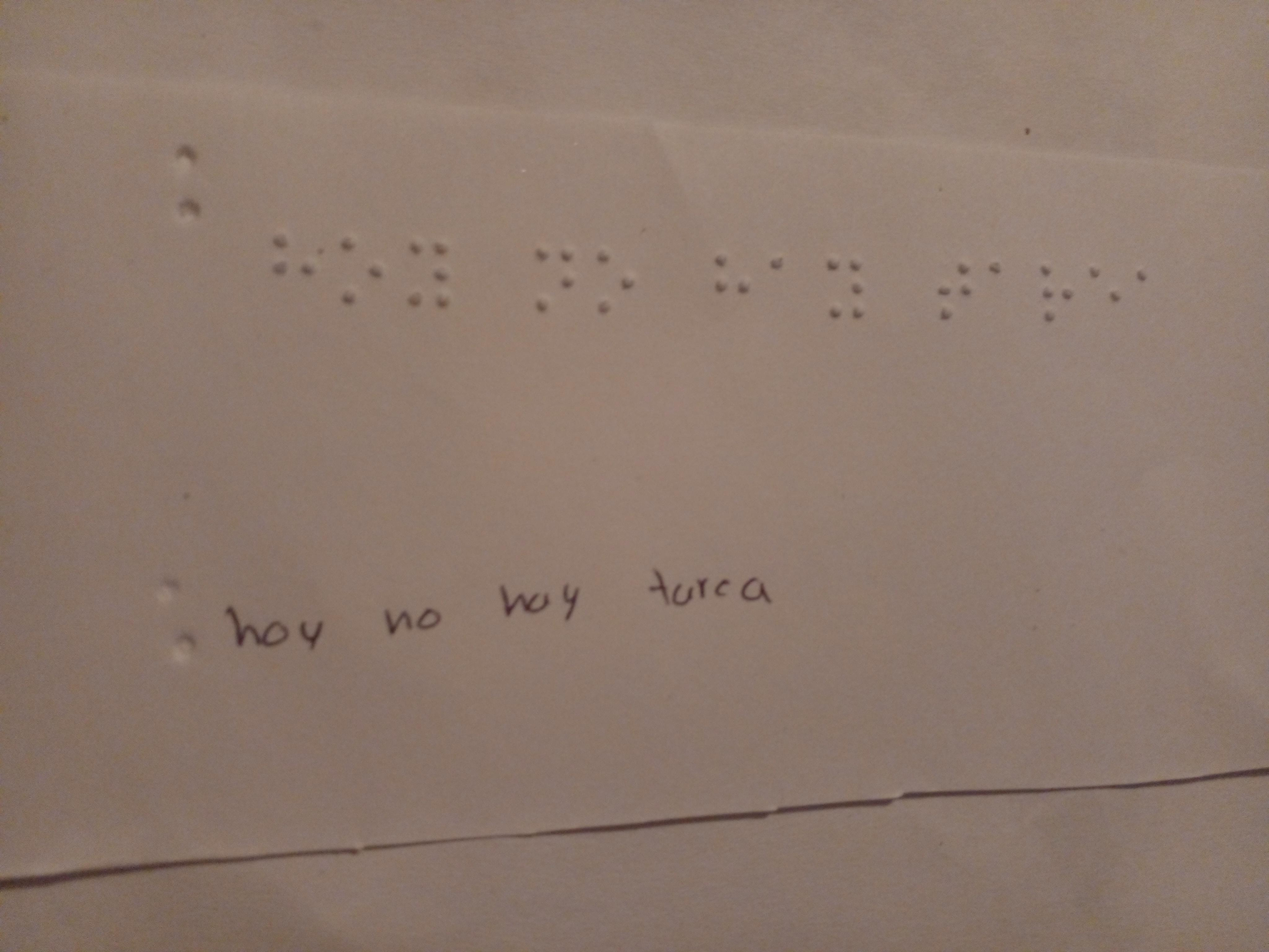a: (753, 242, 798, 284), (1129, 259, 1162, 313), (985, 254, 1015, 307)
e: (1091, 257, 1123, 319)
h: (265, 215, 324, 305), (696, 240, 761, 319)
n: (527, 229, 586, 321)
o: (330, 231, 383, 315), (587, 246, 640, 324)
r: (1035, 253, 1080, 339)
t: (919, 253, 981, 338)
y: (395, 234, 469, 321), (824, 249, 881, 335)
